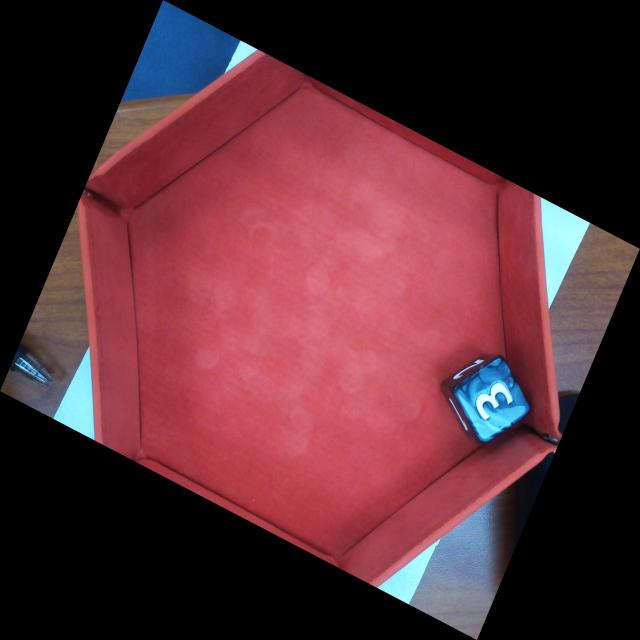dice: (451, 349, 535, 446)
